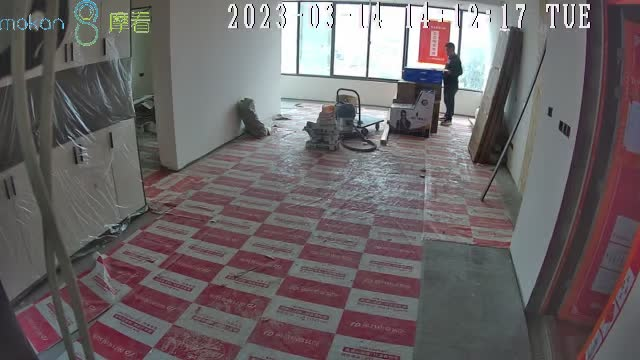people: (440, 42, 463, 126)
window: (281, 1, 491, 93)
